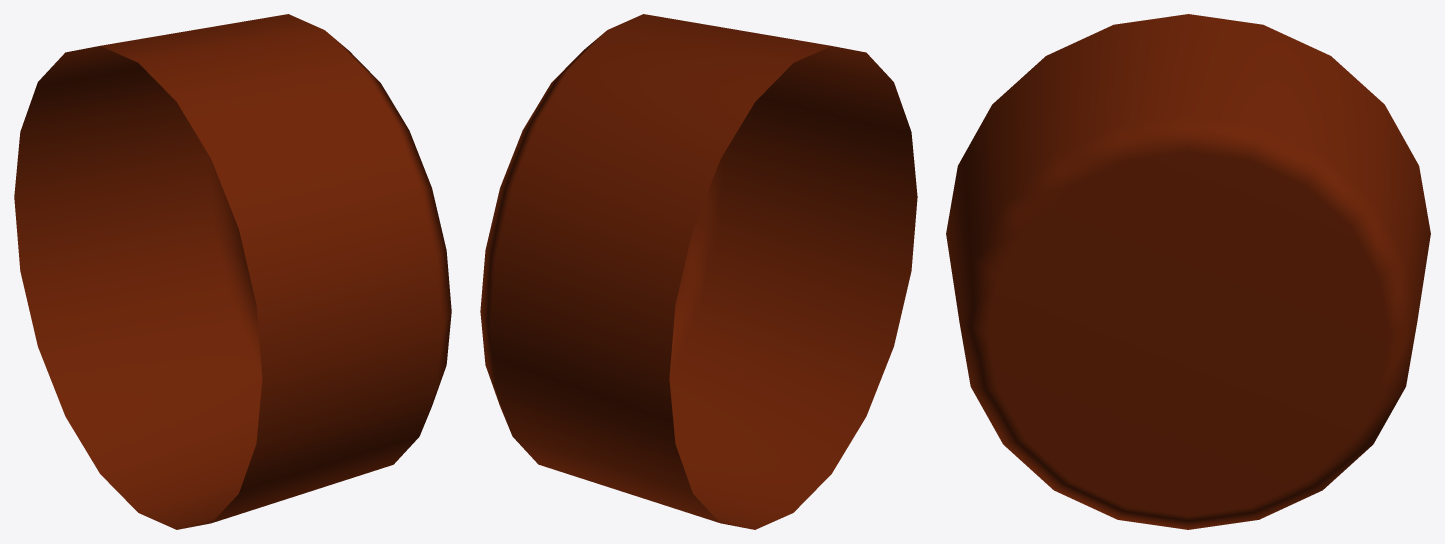
Rendered from SM_Toster_01_Button_03.fbx.
The picture shows the model from 3 angles, left to right: view 1: azimuth 30°, elevation 25°; view 2: azimuth 150°, elevation 25°; view 3: azimuth 270°, elevation 25°; orthographic projection. The views are drawn at different scales.
Parts seen in each view (by area): view 1: SM_Toster_01_Button_03; view 2: SM_Toster_01_Button_03; view 3: SM_Toster_01_Button_03.
Boxes of the visible parts, x1,y1,x2,y2 form: SM_Toster_01_Button_03: (14,14,451,529); SM_Toster_01_Button_03: (480,14,917,529); SM_Toster_01_Button_03: (946,14,1430,529).
Size of the model in its own units: 1.03 by 2.1 by 2.1.
